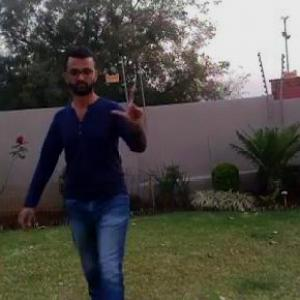land_hand: (108, 84, 144, 124)
